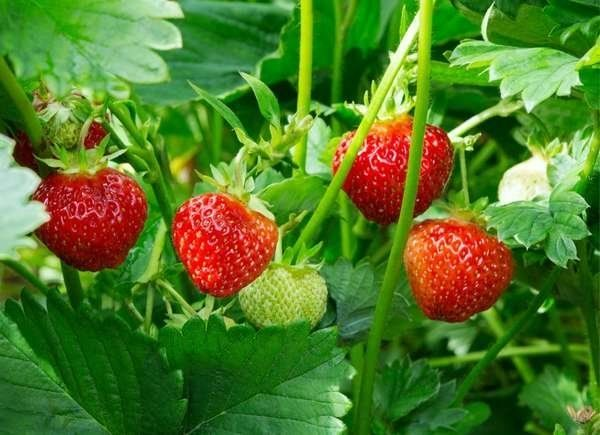ripe: (331, 113, 465, 227), (396, 208, 519, 326), (32, 159, 152, 277), (172, 190, 279, 302), (71, 98, 120, 150)
unripe: (231, 255, 344, 338)
